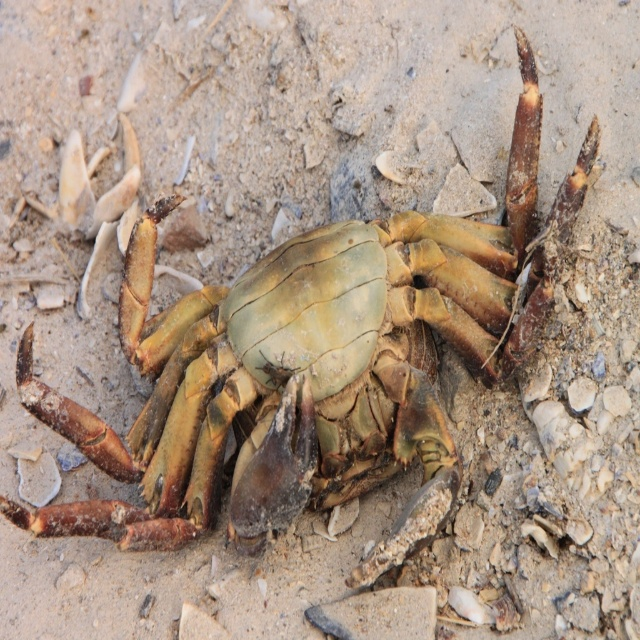Crab: (0, 23, 602, 587)
